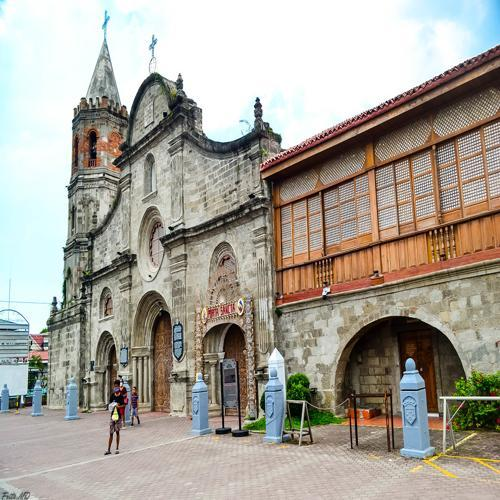Barasoain Church: (33, 8, 279, 425)
